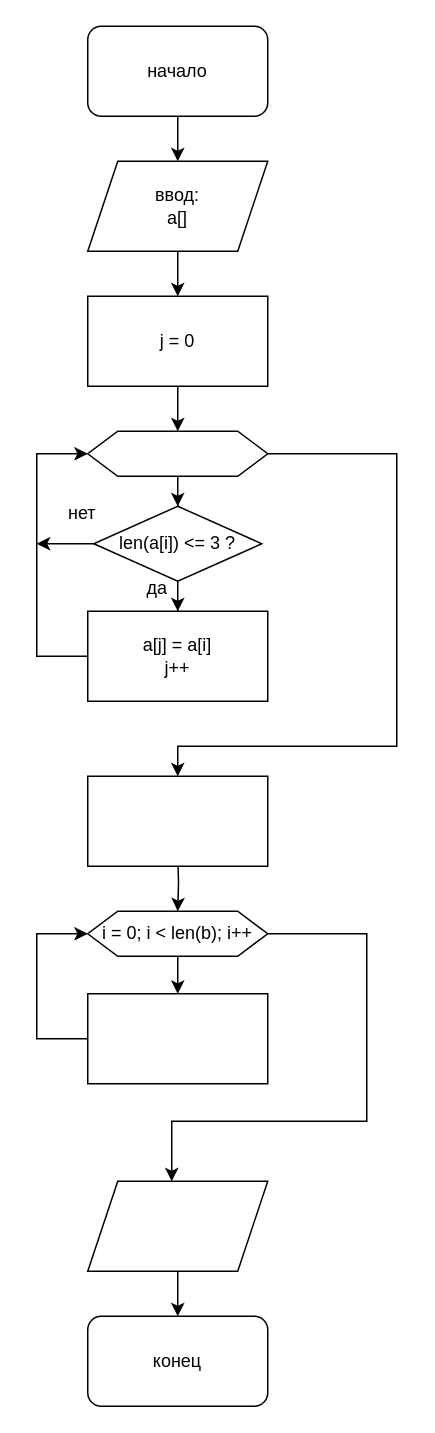
The diagram is 435 pixels wide and 1433 high, and some of its shapes have lost their labels. Here are the shapes that lost their labels. From the top down, the box of each, then its label:
(86, 430, 268, 476): i = 0; i < len(a); i++
(86, 775, 268, 866): b = new string[j]
(86, 992, 268, 1084): b[i]=a[i]
(86, 1180, 268, 1271): вывод b[]
